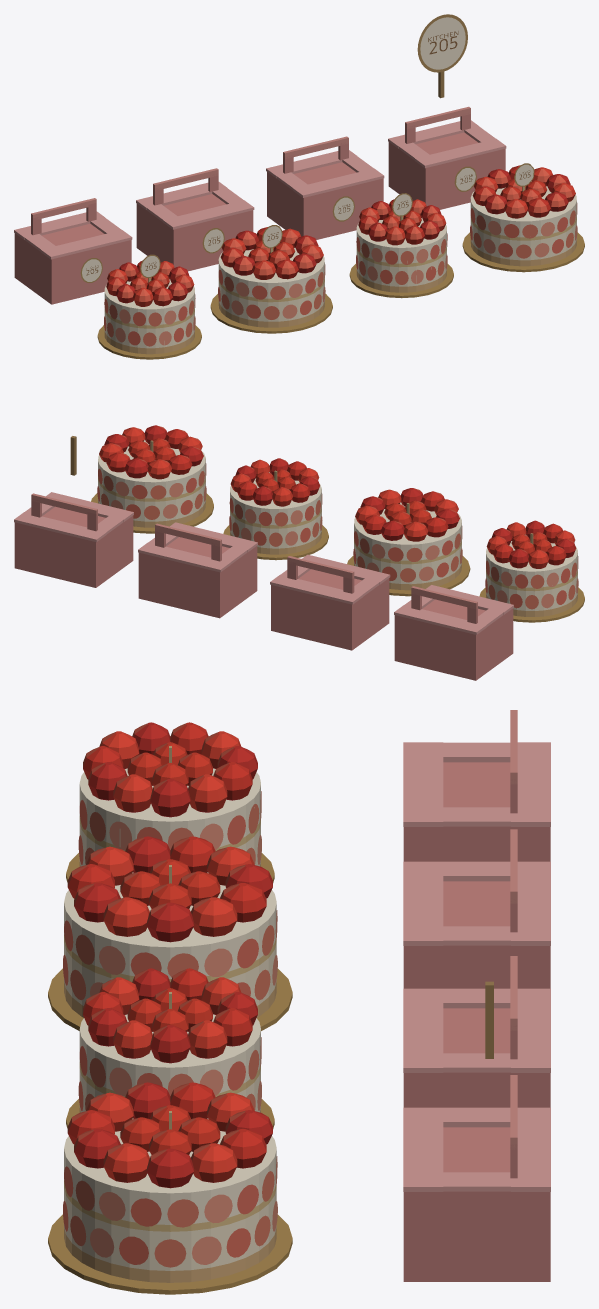
Rendered from kitchen205.glb.
The picture shows the model from 3 angles, top to bottom: view 1: azimuth 30°, elevation 25°; view 2: azimuth 150°, elevation 25°; view 3: azimuth 270°, elevation 25°; orthographic projection. The views are drawn at different scales.
Parts seen in each view (by area): view 1: SweetKitchen205; view 2: SweetKitchen205; view 3: SweetKitchen205.
Boxes of the visible parts, x1,y1,x2,y2 form: SweetKitchen205: (14,14,584,359); SweetKitchen205: (14,425,584,680); SweetKitchen205: (48,710,550,1294).
Bounding box in the file's own units: 1.74 × 0.6164 × 0.8036.
